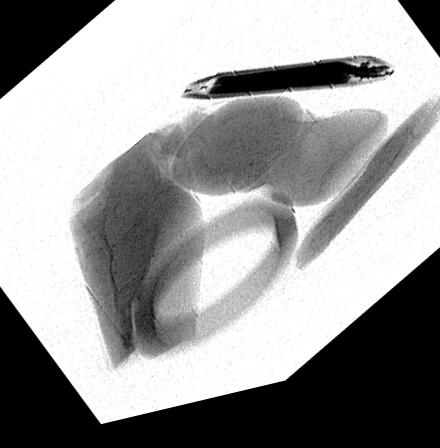Powerbank: (177, 70, 396, 112)
